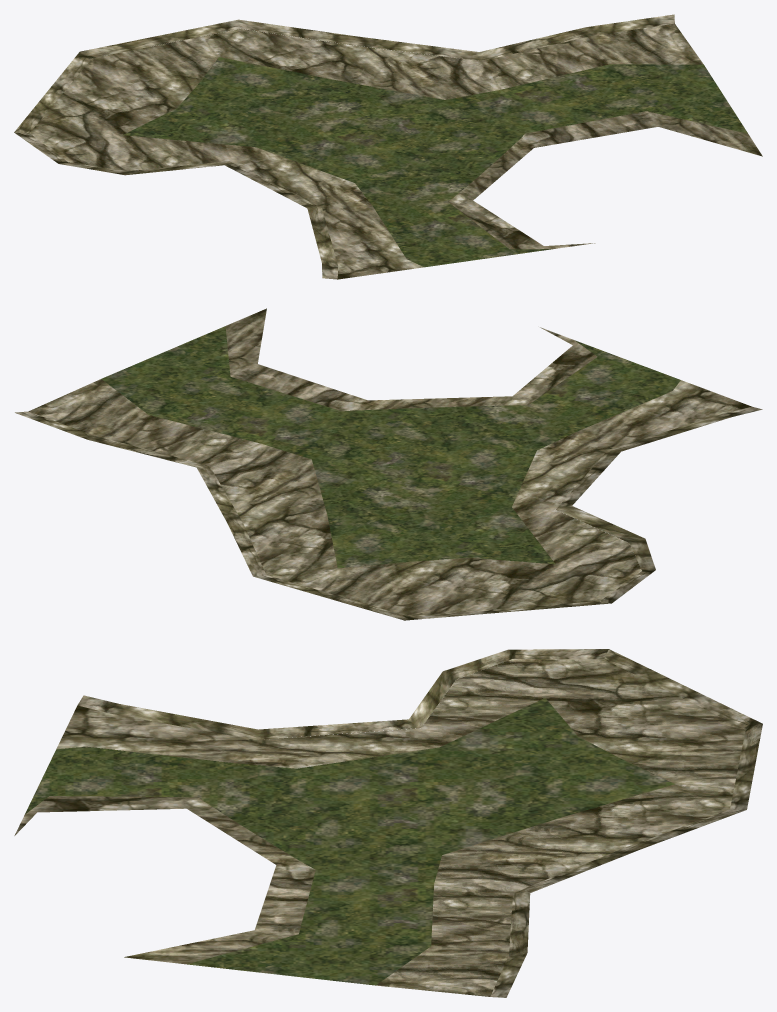
File: CB_NEWPLAYSURFACE_CB_PLAYSURFACE30.fbx
The picture shows the model from 3 angles, top to bottom: view 1: azimuth 30°, elevation 25°; view 2: azimuth 150°, elevation 25°; view 3: azimuth 270°, elevation 25°; orthographic projection. The views are drawn at different scales.
Visible parts, largest first — view 1: CB_NEWPLAYSURFACE_CB_PLAYSURFACE30; view 2: CB_NEWPLAYSURFACE_CB_PLAYSURFACE30; view 3: CB_NEWPLAYSURFACE_CB_PLAYSURFACE30.
Boxes of the visible parts, x1,y1,x2,y2 form: CB_NEWPLAYSURFACE_CB_PLAYSURFACE30: (14, 14, 762, 279); CB_NEWPLAYSURFACE_CB_PLAYSURFACE30: (15, 308, 762, 620); CB_NEWPLAYSURFACE_CB_PLAYSURFACE30: (14, 649, 762, 997).
Size of the model in its own units: 266994 by 1025 by 242171.
2 materials, 2 textured.
